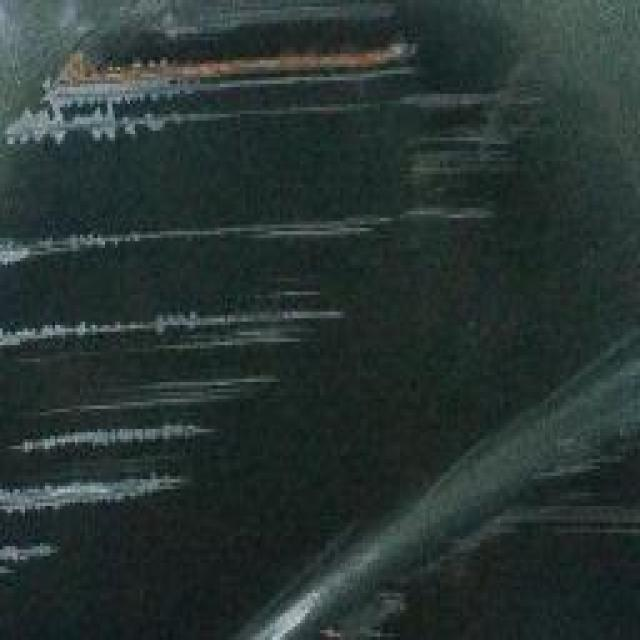Door: (0, 34, 638, 640)
